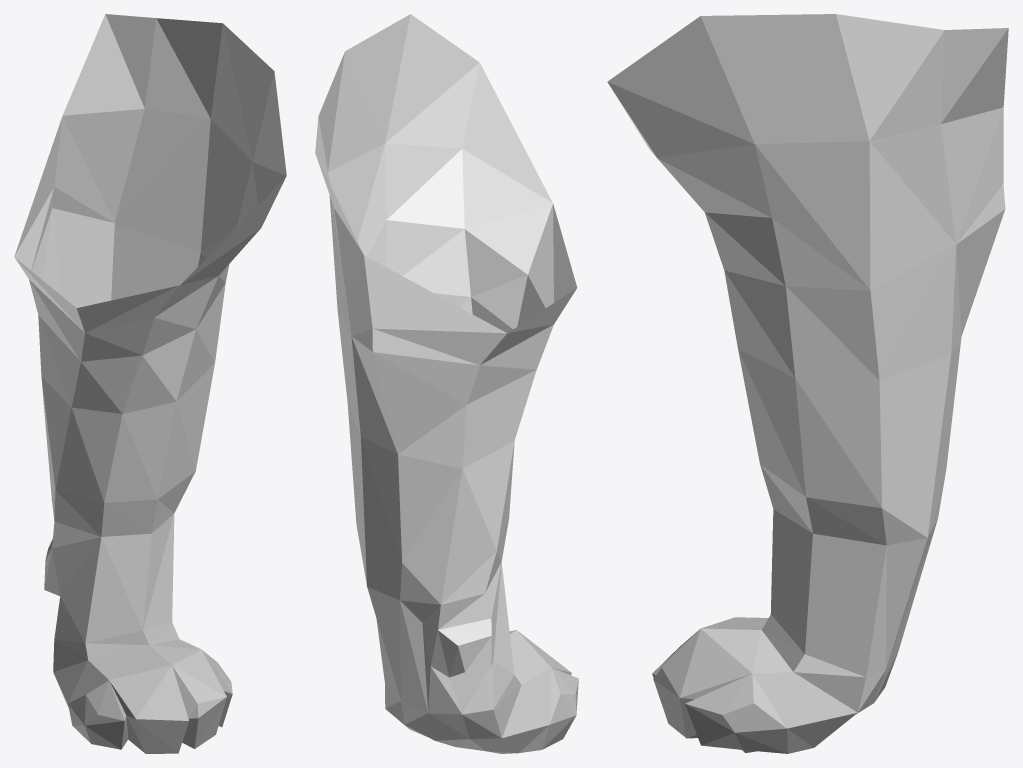
The model's file is patadelizq.obj.
The picture shows the model from 3 angles, left to right: view 1: azimuth 30°, elevation 25°; view 2: azimuth 150°, elevation 25°; view 3: azimuth 270°, elevation 25°; orthographic projection. The views are drawn at different scales.
Visible parts, largest first — view 1: cat_01_color05.002; view 2: cat_01_color05.002; view 3: cat_01_color05.002.
Boxes of the visible parts, bbox=[...] form: cat_01_color05.002: bbox=[14, 14, 286, 753]; cat_01_color05.002: bbox=[315, 14, 578, 753]; cat_01_color05.002: bbox=[607, 14, 1008, 753].
Bounding box in the file's own units: 0.2875 × 0.9566 × 0.4523.
